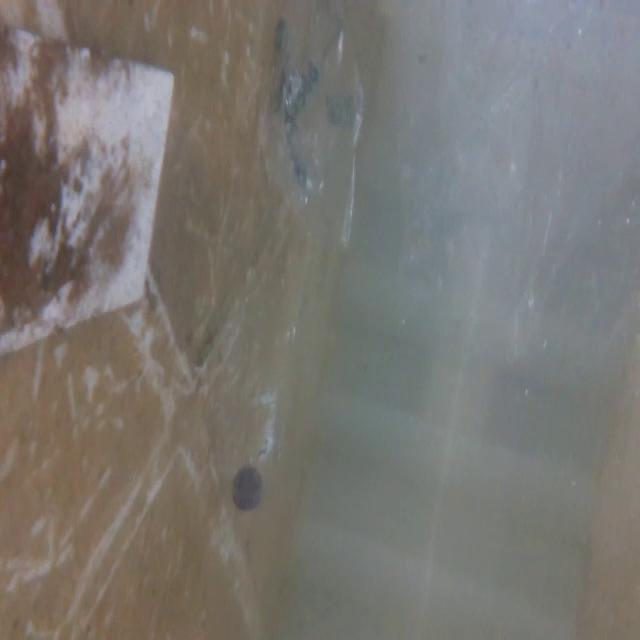metal: (0, 23, 180, 340)
plastic bags: (426, 0, 639, 345), (249, 0, 370, 257)
plastic bottle: (202, 302, 302, 526)
